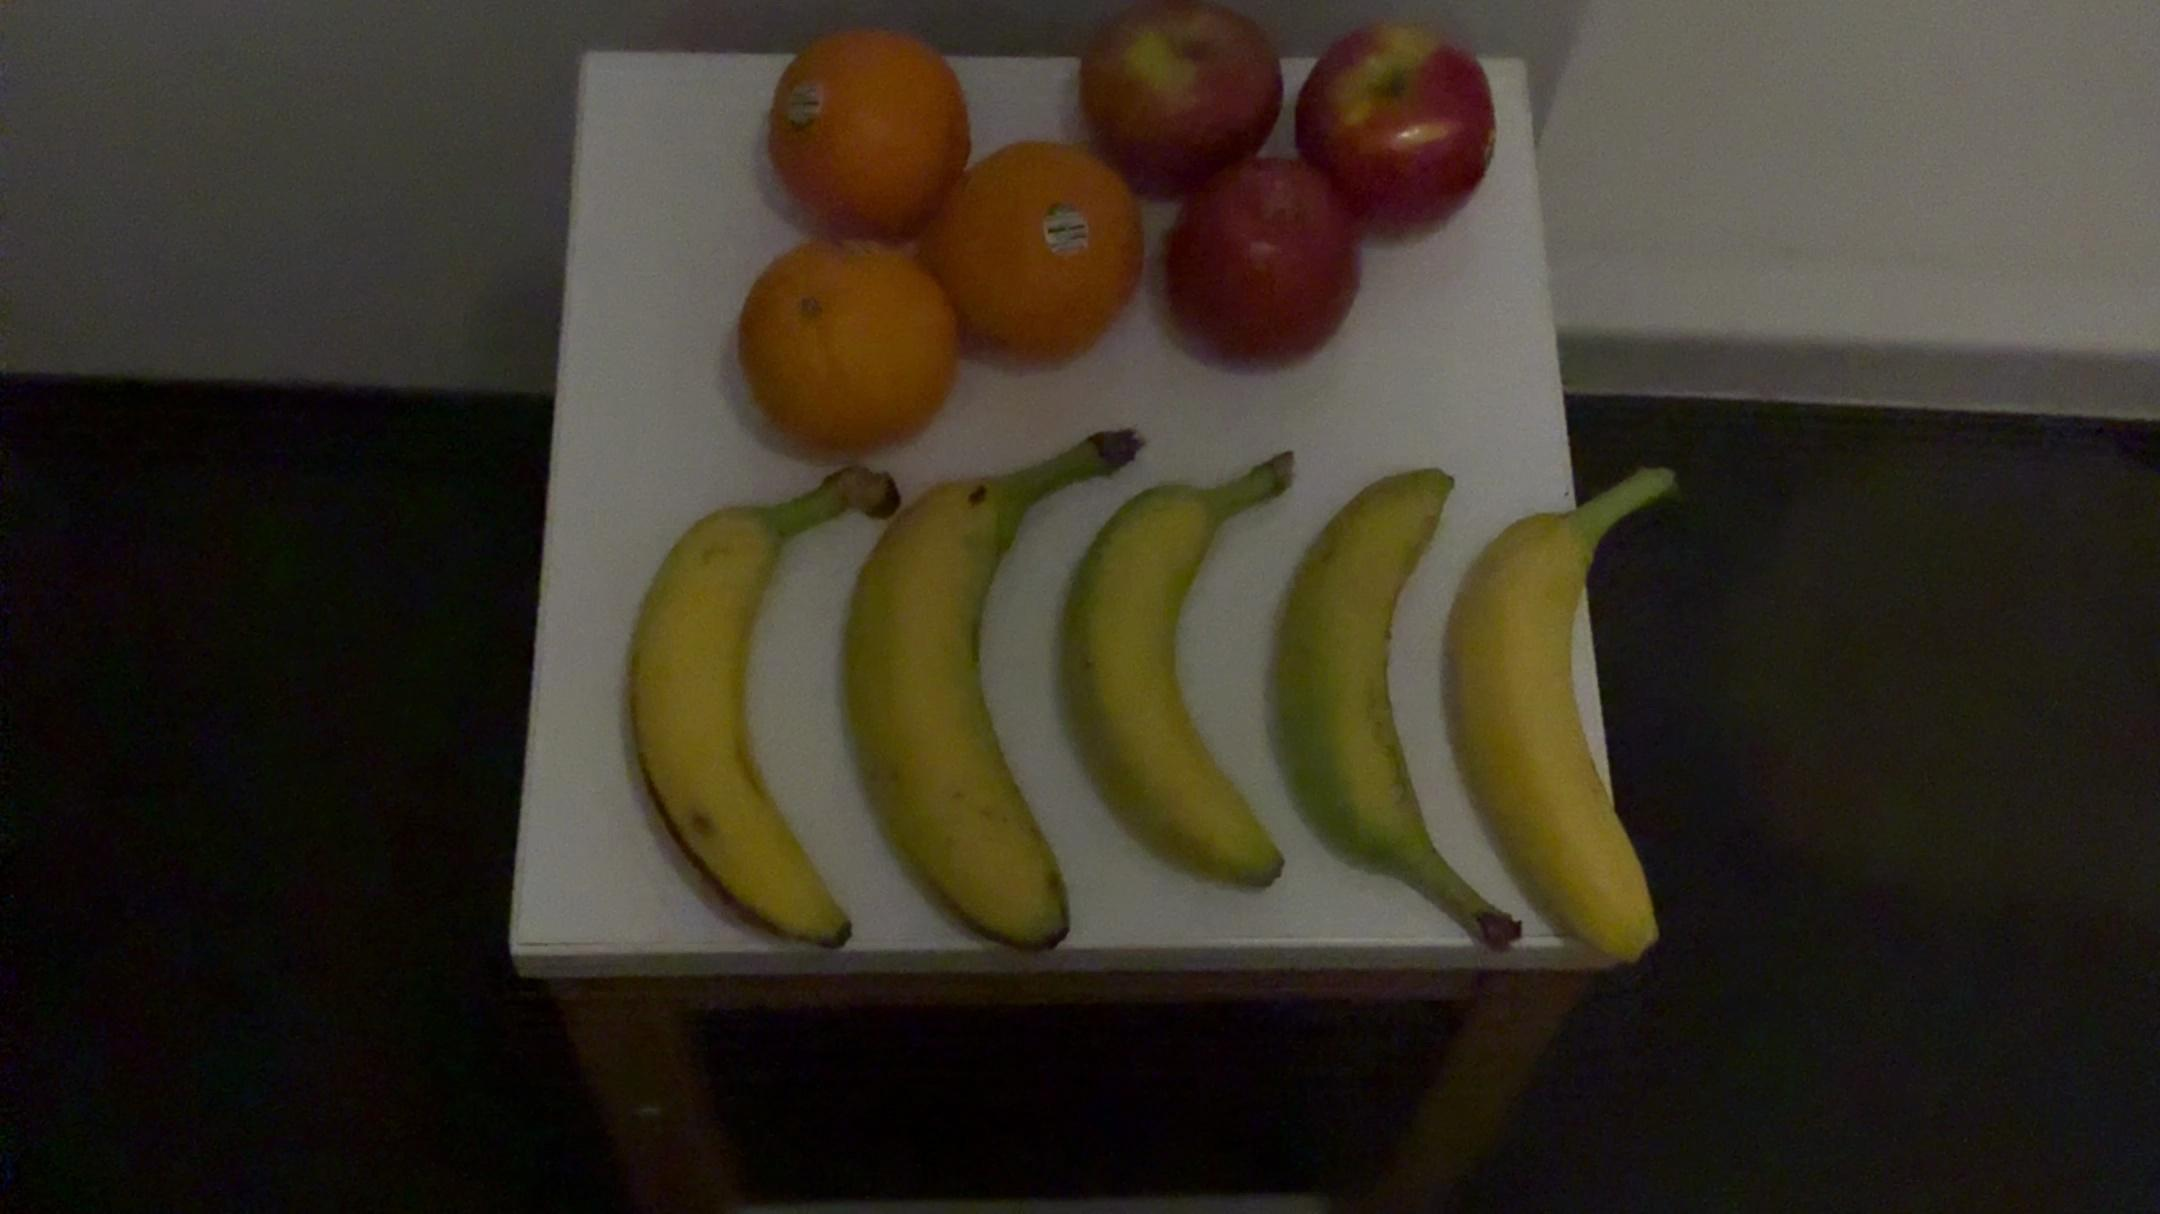apple: (1294, 16, 1501, 234), (1159, 160, 1349, 375), (1077, 1, 1276, 197)
banana: (846, 410, 1122, 963), (1445, 439, 1696, 975), (629, 453, 889, 969), (1273, 441, 1515, 968), (1076, 427, 1300, 913)
orange: (734, 232, 948, 465), (935, 140, 1130, 370), (749, 21, 966, 229)
